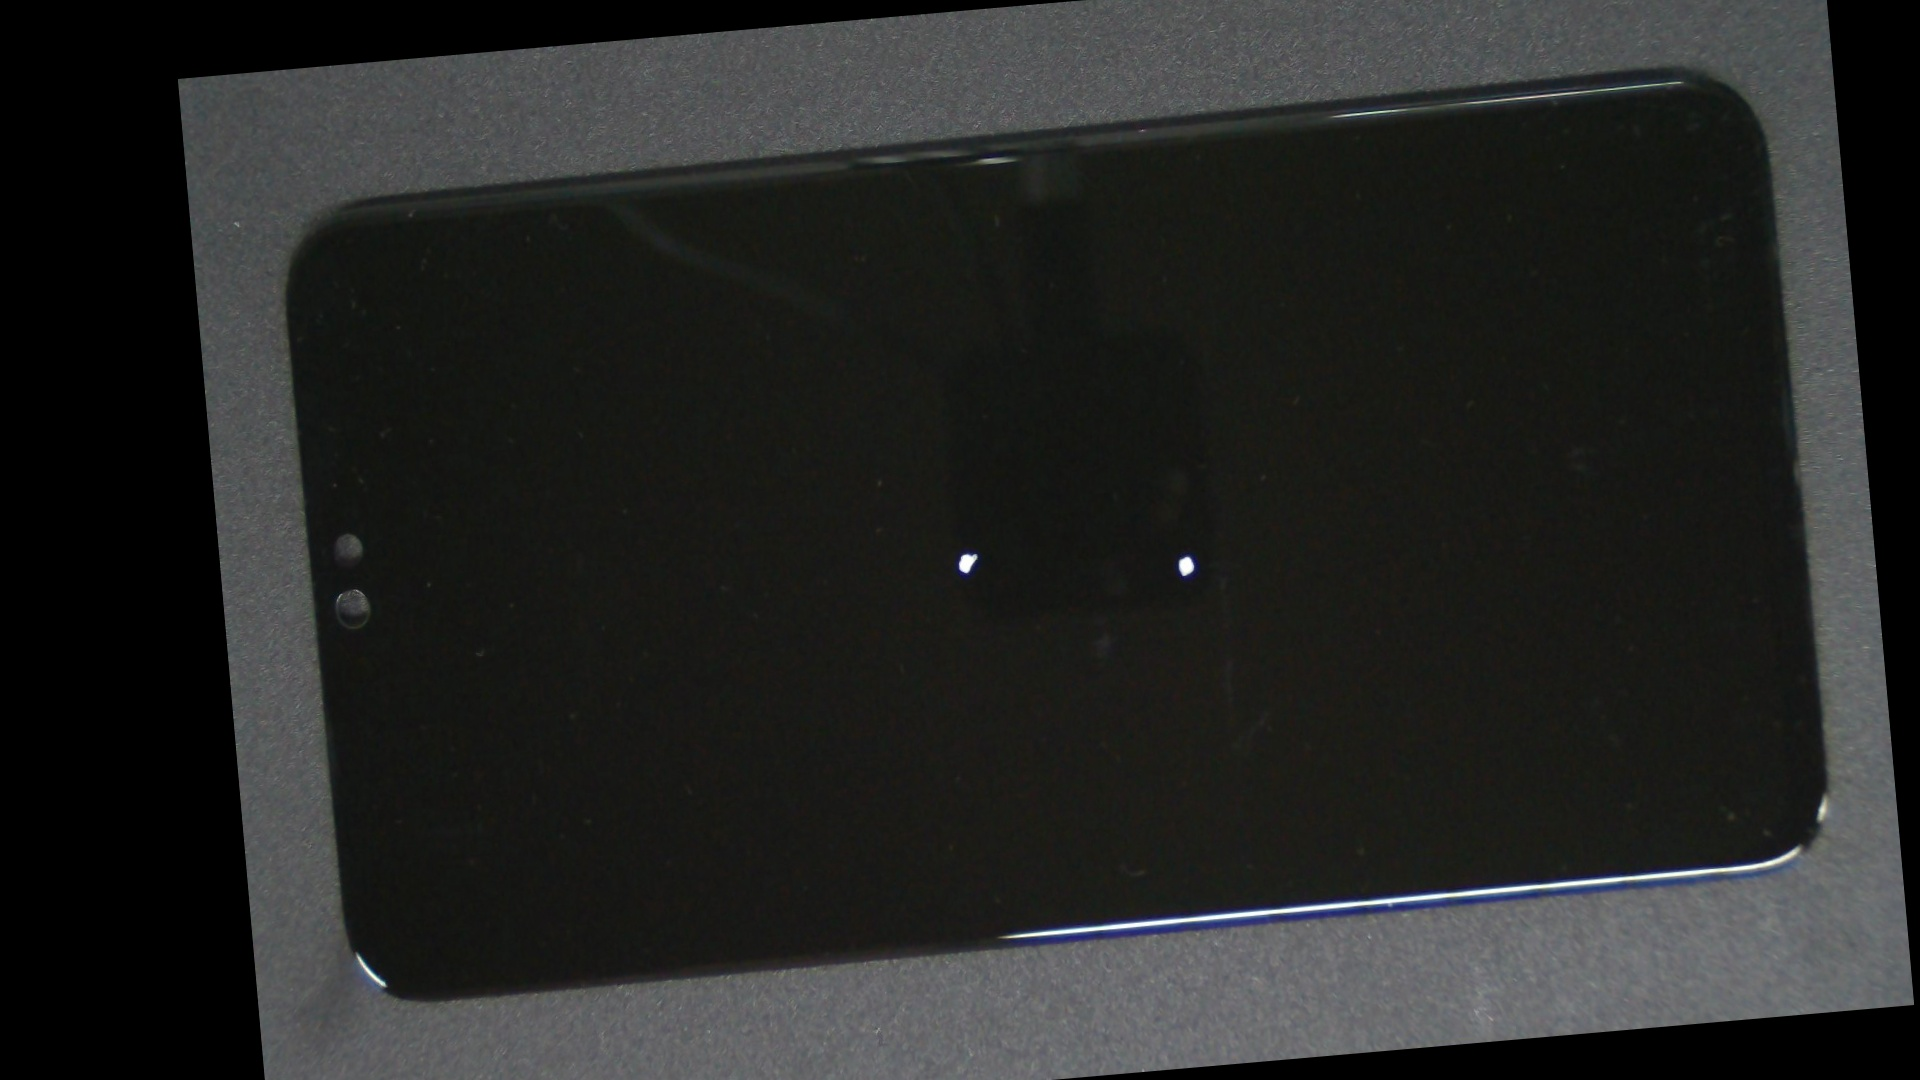oil: (682, 233, 1689, 877), (571, 252, 1357, 855)
